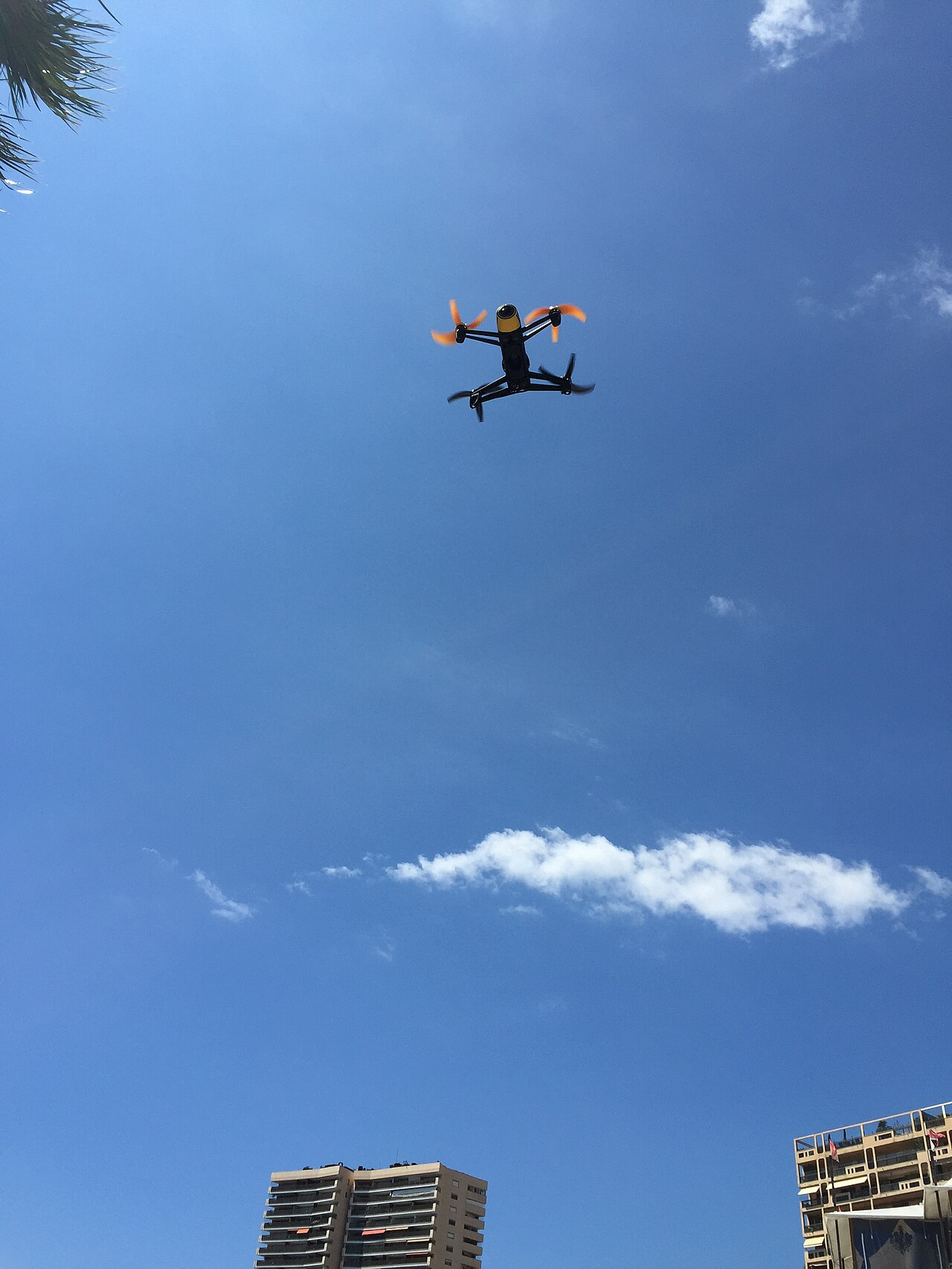drone: (430, 298, 595, 423)
